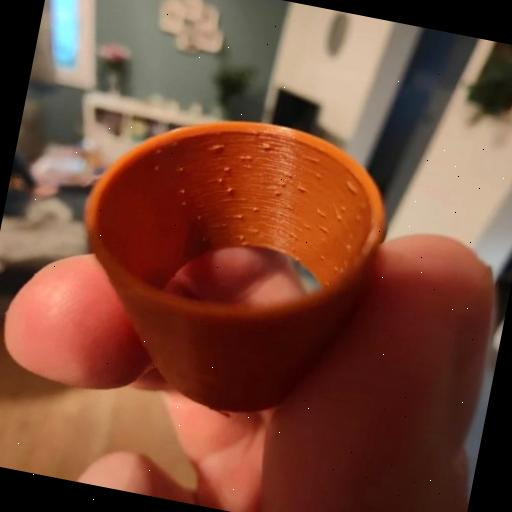blobs: (340, 180, 358, 196), (219, 162, 234, 176), (260, 142, 276, 154), (246, 202, 260, 215), (329, 260, 342, 274), (210, 141, 224, 154), (174, 164, 188, 176), (270, 188, 284, 200), (276, 178, 290, 190), (336, 204, 349, 216), (150, 162, 162, 175), (244, 150, 256, 162), (176, 185, 188, 197), (290, 231, 302, 242), (312, 172, 324, 182), (224, 184, 234, 196), (232, 212, 244, 222), (215, 176, 226, 186), (295, 184, 306, 194), (318, 222, 328, 233), (318, 250, 328, 260), (284, 171, 294, 180), (236, 234, 247, 242), (335, 214, 345, 222)
